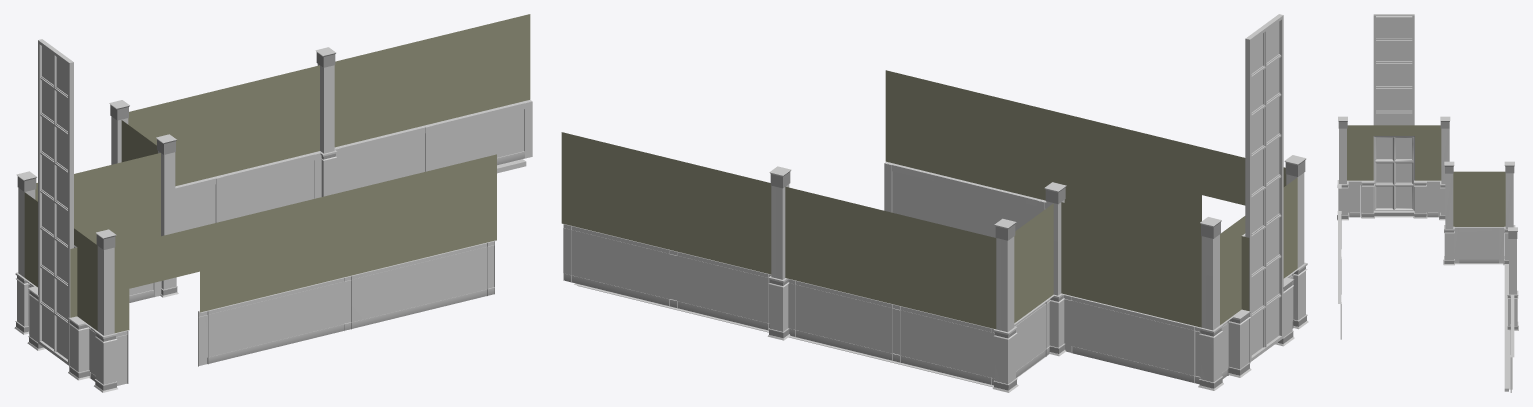
File: SM_H_Building_Tide_WardenLounge_01C_ATLAS.fbx
3 renders of one model, left to right at view 1: azimuth 30°, elevation 25°; view 2: azimuth 150°, elevation 25°; view 3: azimuth 270°, elevation 25°, orthographic. The views are drawn at different scales.
Visible parts, largest first — view 1: SM_H_Building_Tide_WardenLounge_01C_ATLAS; view 2: SM_H_Building_Tide_WardenLounge_01C_ATLAS; view 3: SM_H_Building_Tide_WardenLounge_01C_ATLAS.
Boxes of the visible parts, x1,y1,x2,y2 form: SM_H_Building_Tide_WardenLounge_01C_ATLAS: (14,14,532,392); SM_H_Building_Tide_WardenLounge_01C_ATLAS: (561,14,1308,392); SM_H_Building_Tide_WardenLounge_01C_ATLAS: (1337,14,1518,392).
Bounding box in the file's own units: 1768 × 757 × 929.
